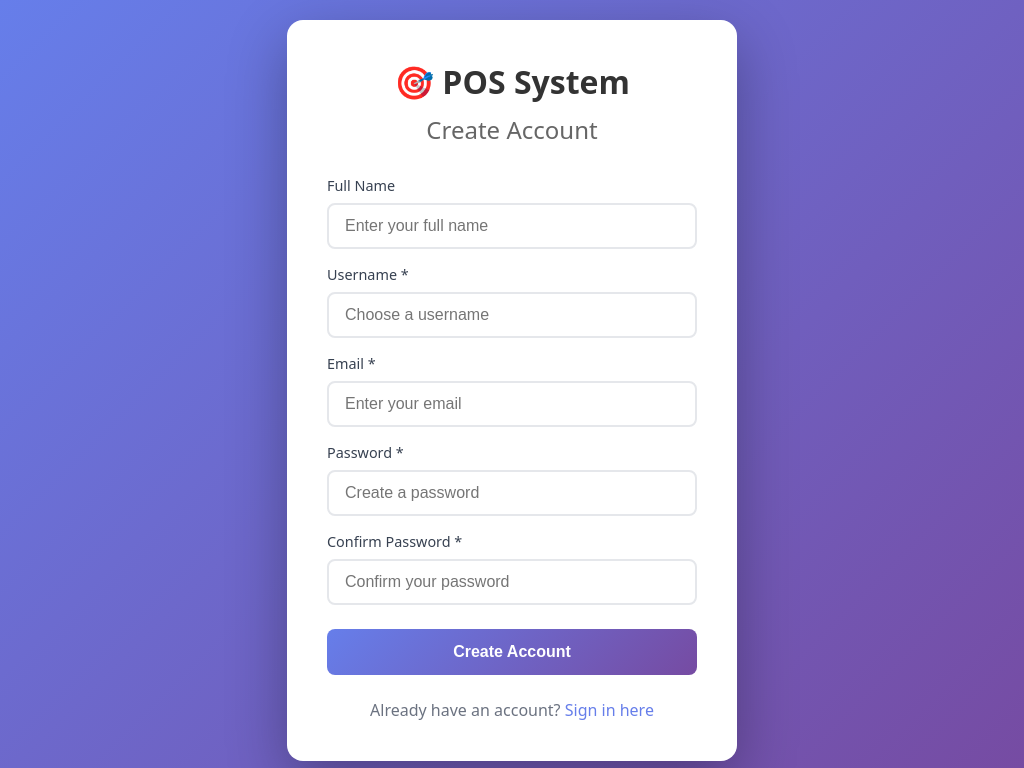
Test: Register Component › shows error when password is too short
The image size is (1024, 768).
Type "testuser" into the field with placeholder "Choose a username" at (512, 315), box top-left (327, 292), bottom-right (697, 338)
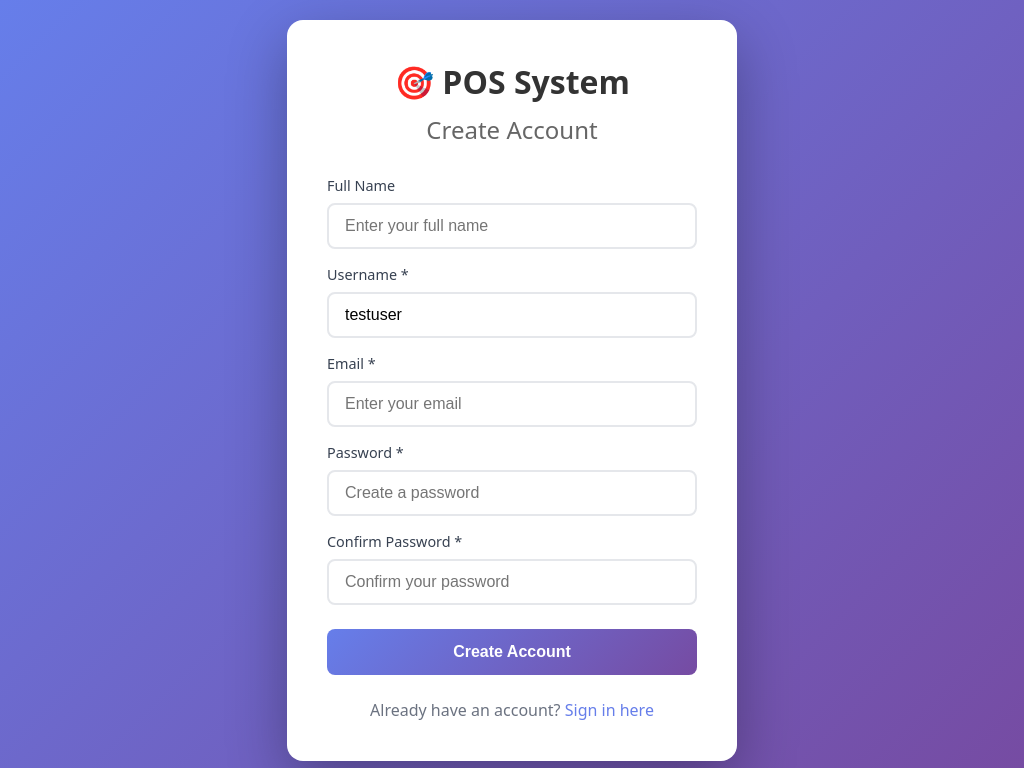
Type "test@example.com" into the field with placeholder "Enter your email" at (512, 404), box top-left (327, 381), bottom-right (697, 427)
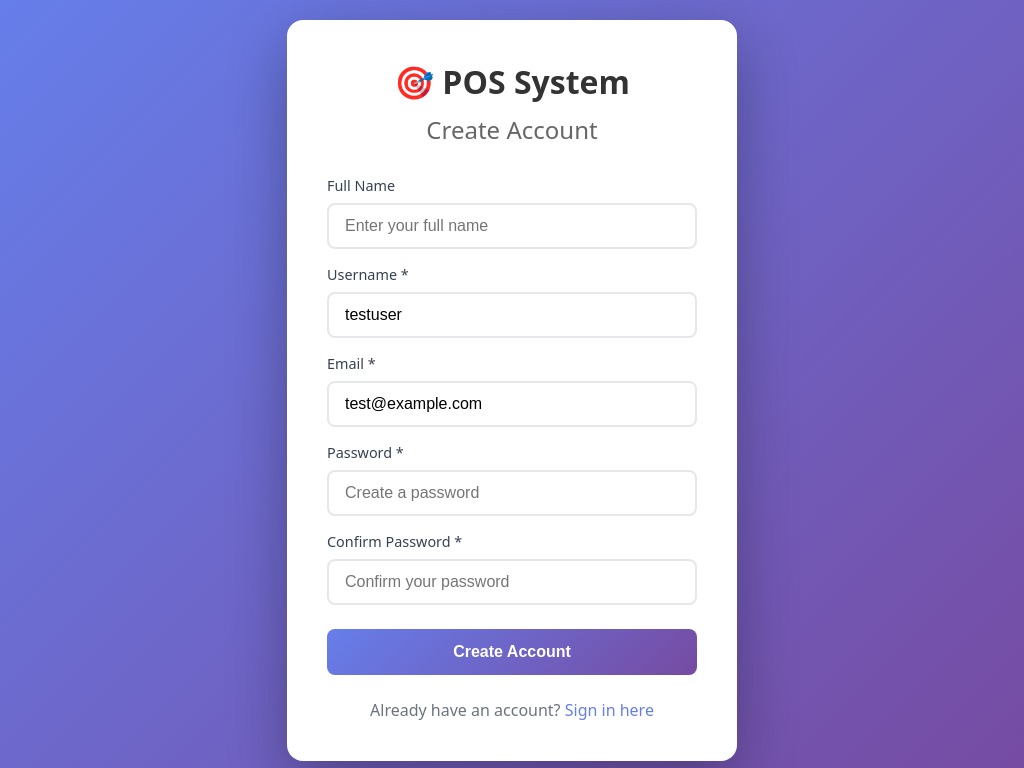
Type "123" into the password field with placeholder "Create a password" at (512, 493), box top-left (327, 470), bottom-right (697, 516)
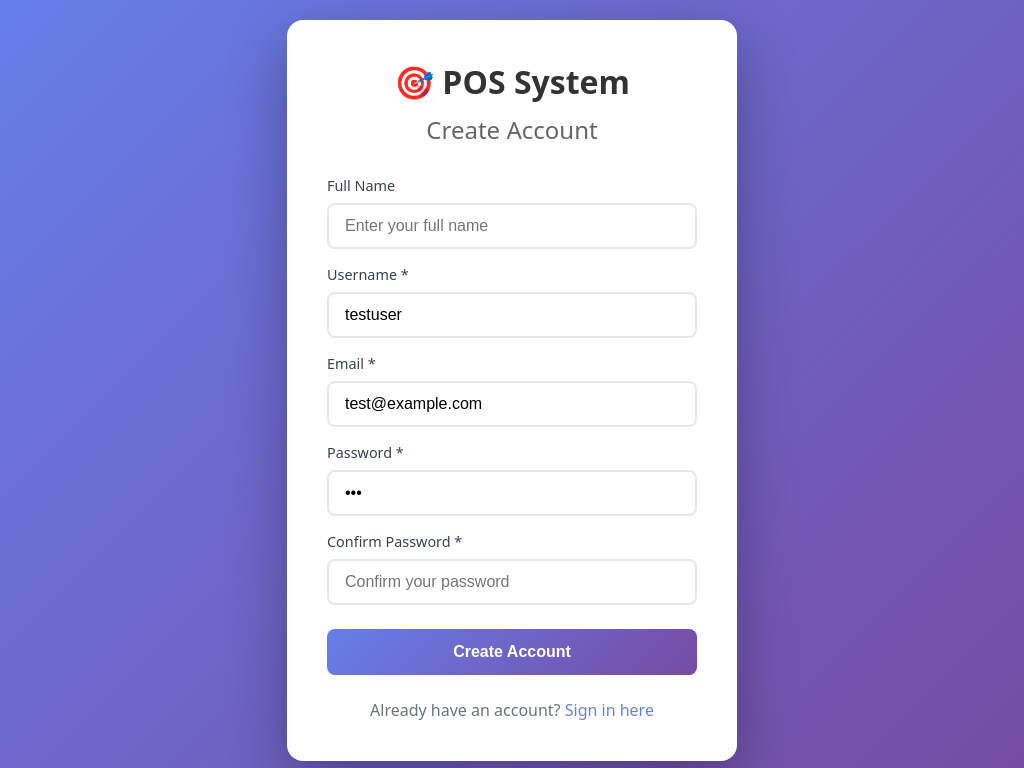
Type "123" into the password field with placeholder "Confirm your password" at (512, 582), box top-left (327, 559), bottom-right (697, 605)
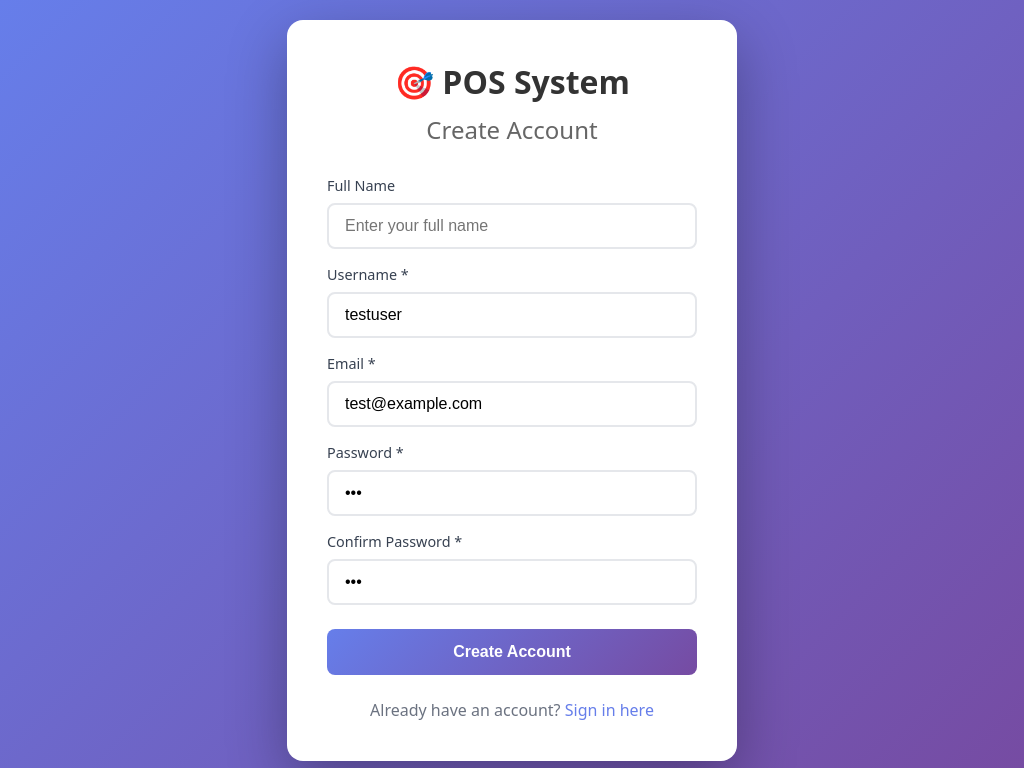
Click the button "Create Account" at (512, 652), box top-left (327, 629), bottom-right (697, 675)
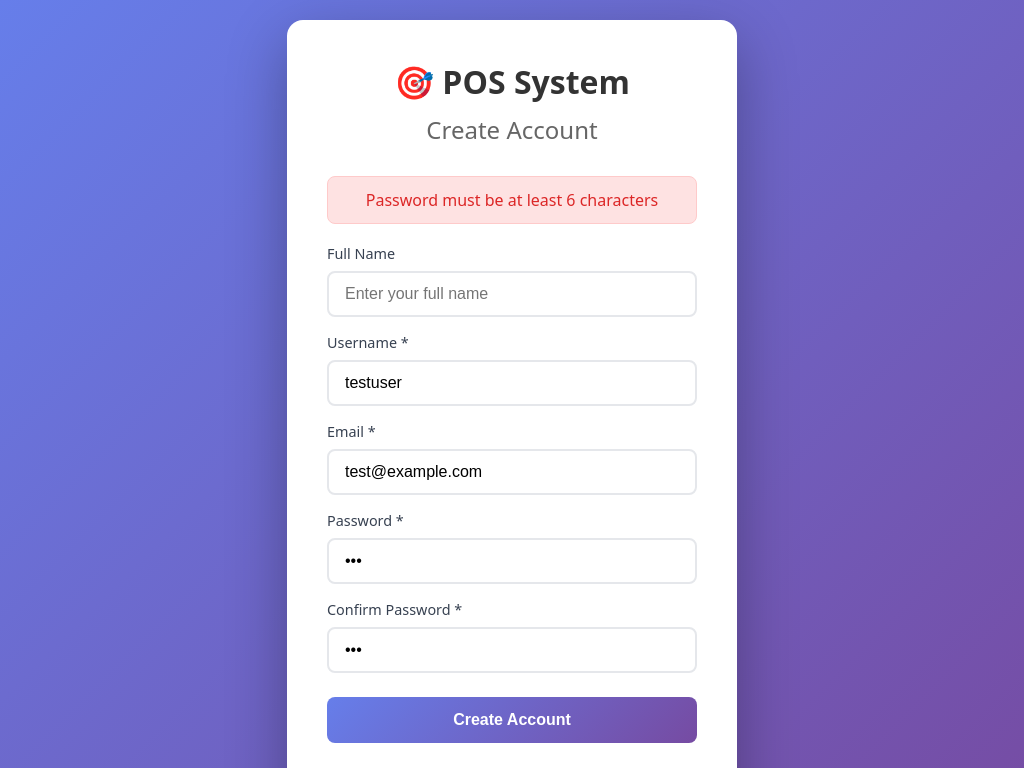
expect the text "Password must be at least 6 characters" is shown: met, box top-left (327, 176), bottom-right (697, 224)
